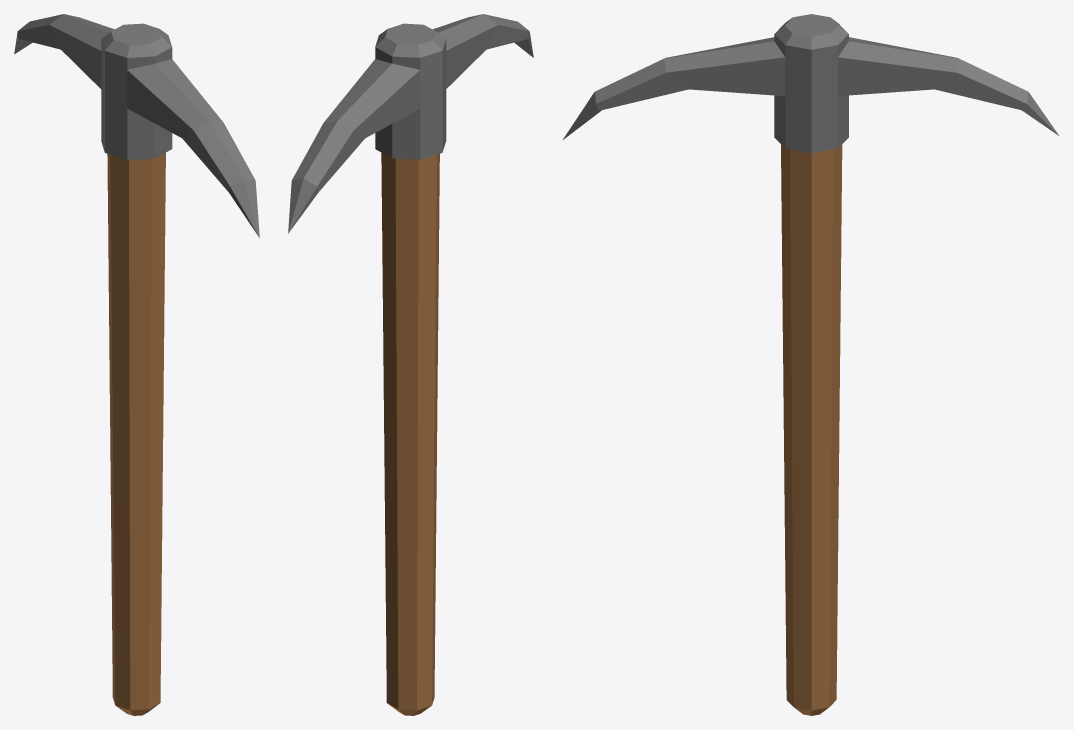
The model's file is melee-pickaxe.glb.
3 renders of one model, left to right at view 1: azimuth 30°, elevation 25°; view 2: azimuth 150°, elevation 25°; view 3: azimuth 270°, elevation 25°, orthographic.
Parts seen in each view (by area): view 1: Pioche; view 2: Pioche; view 3: Pioche.
Boxes of the visible parts, box(x1,y1,x2,y2) form: Pioche: box(14, 14, 259, 715); Pioche: box(288, 14, 533, 715); Pioche: box(562, 14, 1059, 715).
Size of the model in its own units: 77.52 by 788 by 518.
